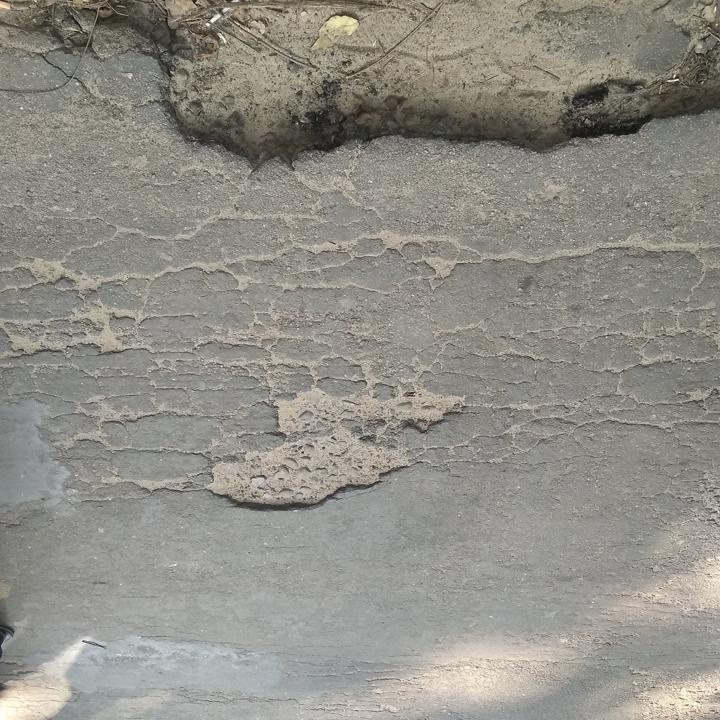pothole: (24, 0, 719, 182), (204, 386, 472, 515)
